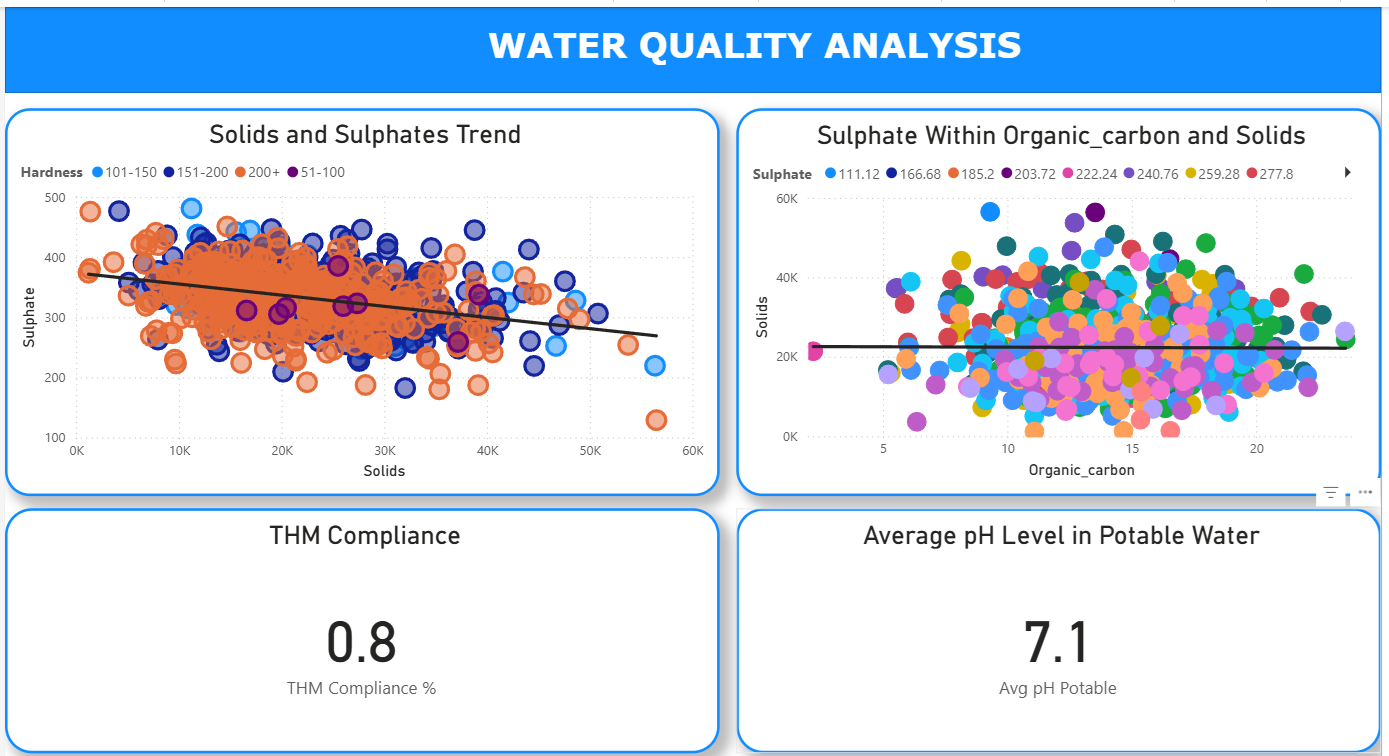

What the dashboard file says about the page in this screenshot:
{"tool":"powerbi","page":{"name":"Dashboard 1","canvas":[1280,720],"ordinal":0},"visuals":[{"type":"scatterChart","title":"Solids and Sulphates Trend","fields":{"X":["water_potability_cleaned.Solids"],"Y":["water_potability_cleaned.Sulphate"],"Series":["water_potability_cleaned.HardnessBin"]},"box":[0,94.2,665.1,360.5],"z":0},{"type":"scatterChart","title":"Sulphate Within Organic_carbon and Solids","fields":{"Y":["water_potability_cleaned.Solids"],"X":["water_potability_cleaned.Organic_carbon"],"Series":["water_potability_cleaned.Sulphate (bins)"]},"box":[680.2,94.2,600,360.5],"z":1000},{"type":"shape","box":[0,0,1280.2,80.2],"z":2000},{"type":"card","title":"Average pH Level in Potable Water","fields":{"Values":["water_potability_cleaned.Avg pH Potable"]},"box":[680,466,600,228],"z":2002},{"type":"card","title":"THM Compliance","fields":{"Values":["water_potability_cleaned.THM Compliance %"]},"box":[0,466,665,228],"z":2003},{"type":"textbox","box":[90.7,0,872.1,80.2],"z":2004}]}

Visuals, with their boxes in screenshot pixels (x1, y1, x2, y2):
"Solids and Sulphates Trend" scatterChart: region(0, 101, 714, 488)
"Sulphate Within Organic_carbon and Solids" scatterChart: region(730, 101, 1374, 488)
shape: region(0, 0, 1374, 86)
"Average pH Level in Potable Water" card: region(730, 500, 1374, 745)
"THM Compliance" card: region(0, 500, 714, 745)
textbox: region(97, 0, 1034, 86)
